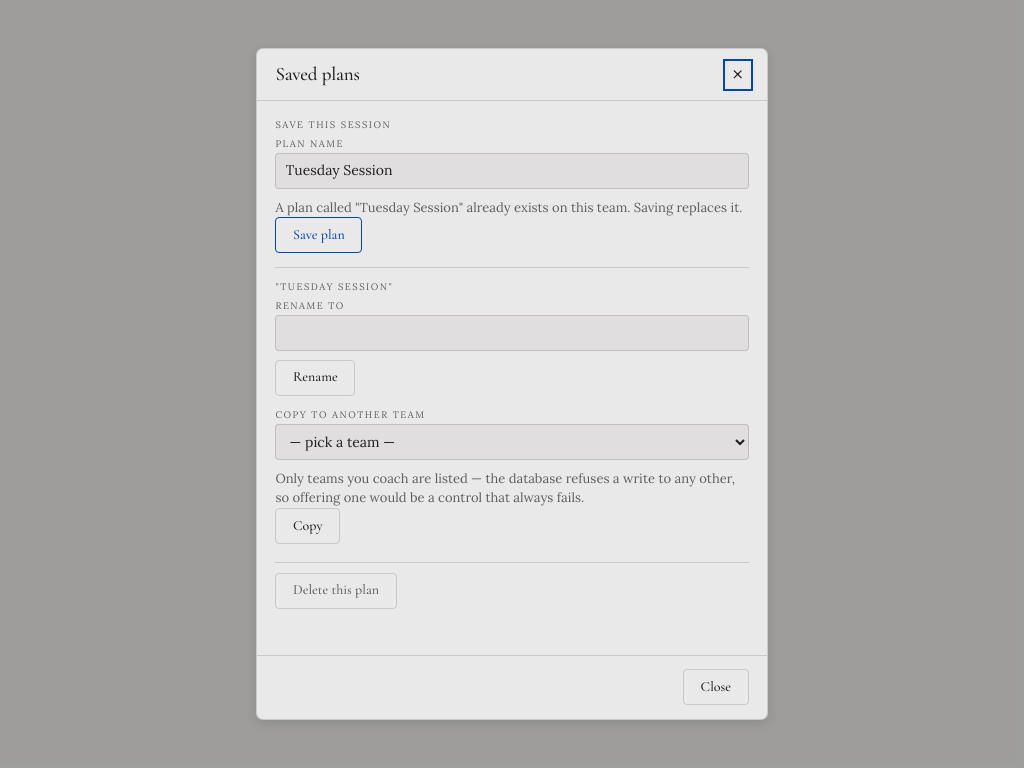
Test: copy to team › passes a refusal on in the client's own words
The image size is (1024, 768).
Select "JV" in the dropdown labelled "Copy to another team" at [512, 442], box [275,424,749,460]
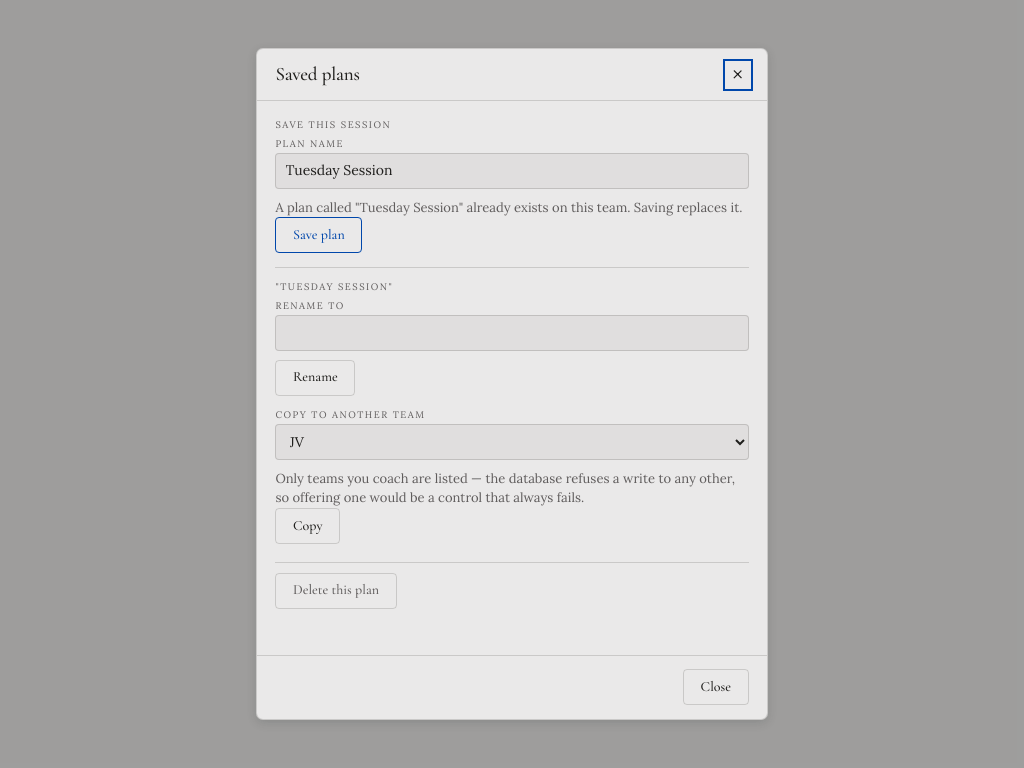
Click the button "Copy".
click(308, 526)  # box [275,508,340,544]
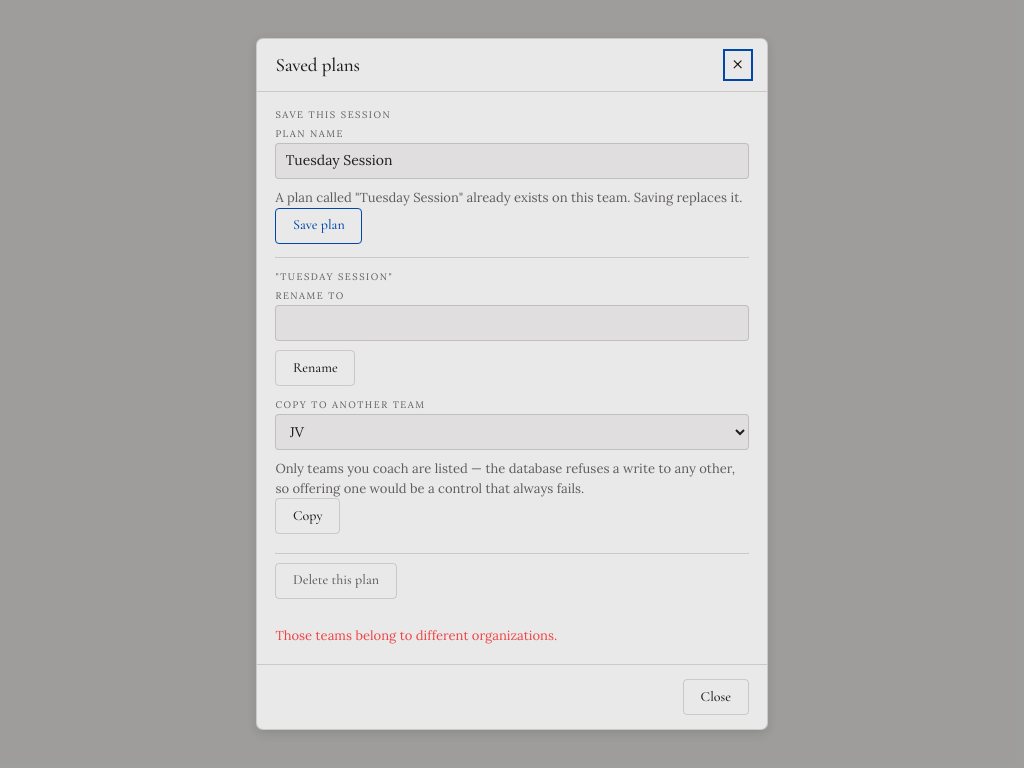
expect the message "Those teams belong to different organizations." is shown: met, box [275,627,557,644]
